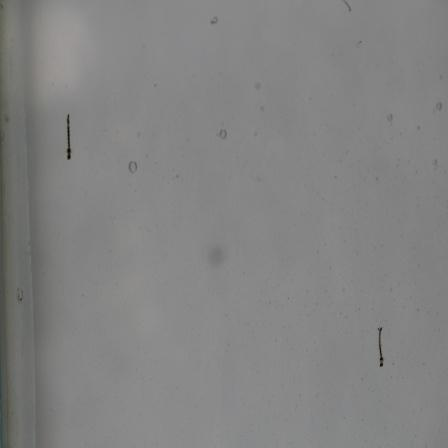Jentik-Nyamuk: (373, 322, 386, 372), (62, 110, 74, 163)
